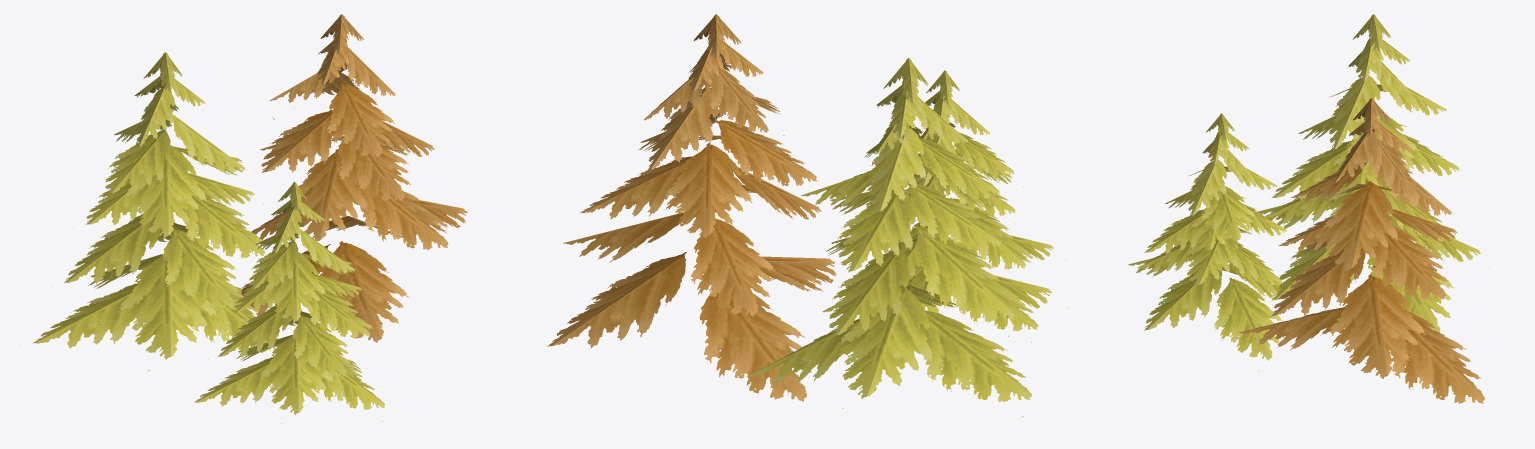
File: area_06_37.fbx
3 renders of one model, left to right at view 1: azimuth 30°, elevation 25°; view 2: azimuth 150°, elevation 25°; view 3: azimuth 270°, elevation 25°, orthographic. The views are drawn at different scales.
Visible parts, largest first — view 1: area_06_37; view 2: area_06_37; view 3: area_06_37.
Part boxes in pixels (x1,y1,x2,y2): area_06_37: (20,14,467,423); area_06_37: (547,14,1067,417); area_06_37: (1128,14,1489,403).
Bounding box in the file's own units: 9.02 × 6.19 × 7.67.
